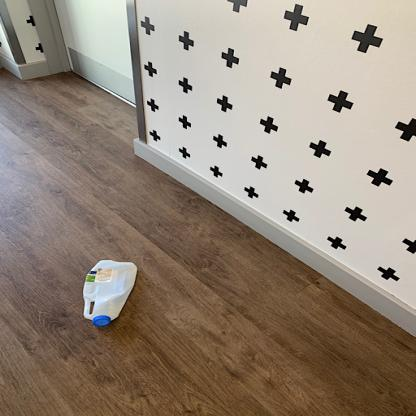trash: (80, 258, 142, 328)
